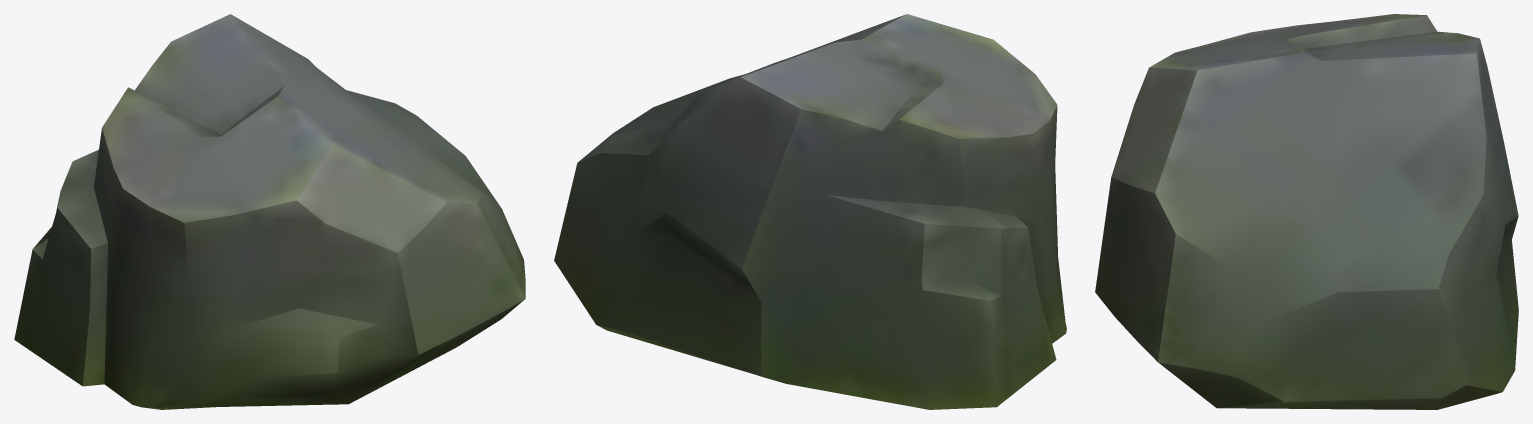
File: n_rock2.glb
The picture shows the model from 3 angles, left to right: view 1: azimuth 30°, elevation 25°; view 2: azimuth 150°, elevation 25°; view 3: azimuth 270°, elevation 25°; orthographic projection. The views are drawn at different scales.
Parts seen in each view (by area): view 1: Rock_Medium_2; view 2: Rock_Medium_2; view 3: Rock_Medium_2.
Boxes of the visible parts, <box> form: Rock_Medium_2: <box>14,14,525,409</box>; Rock_Medium_2: <box>554,14,1066,409</box>; Rock_Medium_2: <box>1095,14,1518,409</box>.
Size of the model in its own units: 3.05 by 1.9 by 2.48.
Materials: 1 (1 with a texture image).
